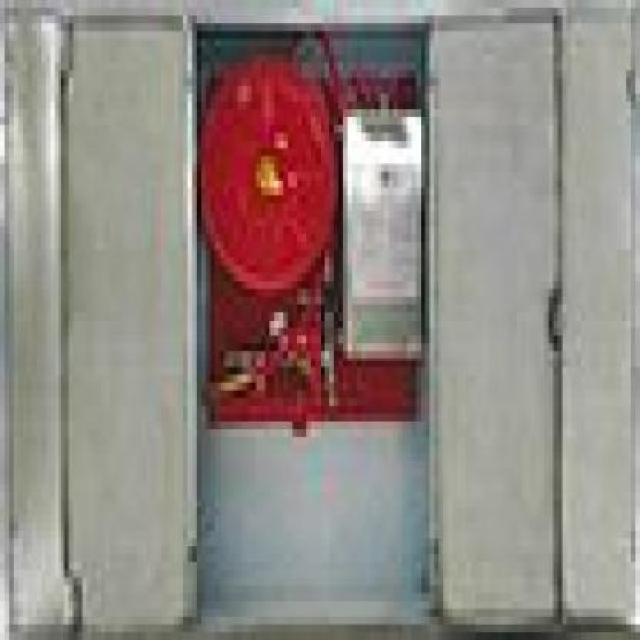firehydrant: (0, 8, 640, 630)
